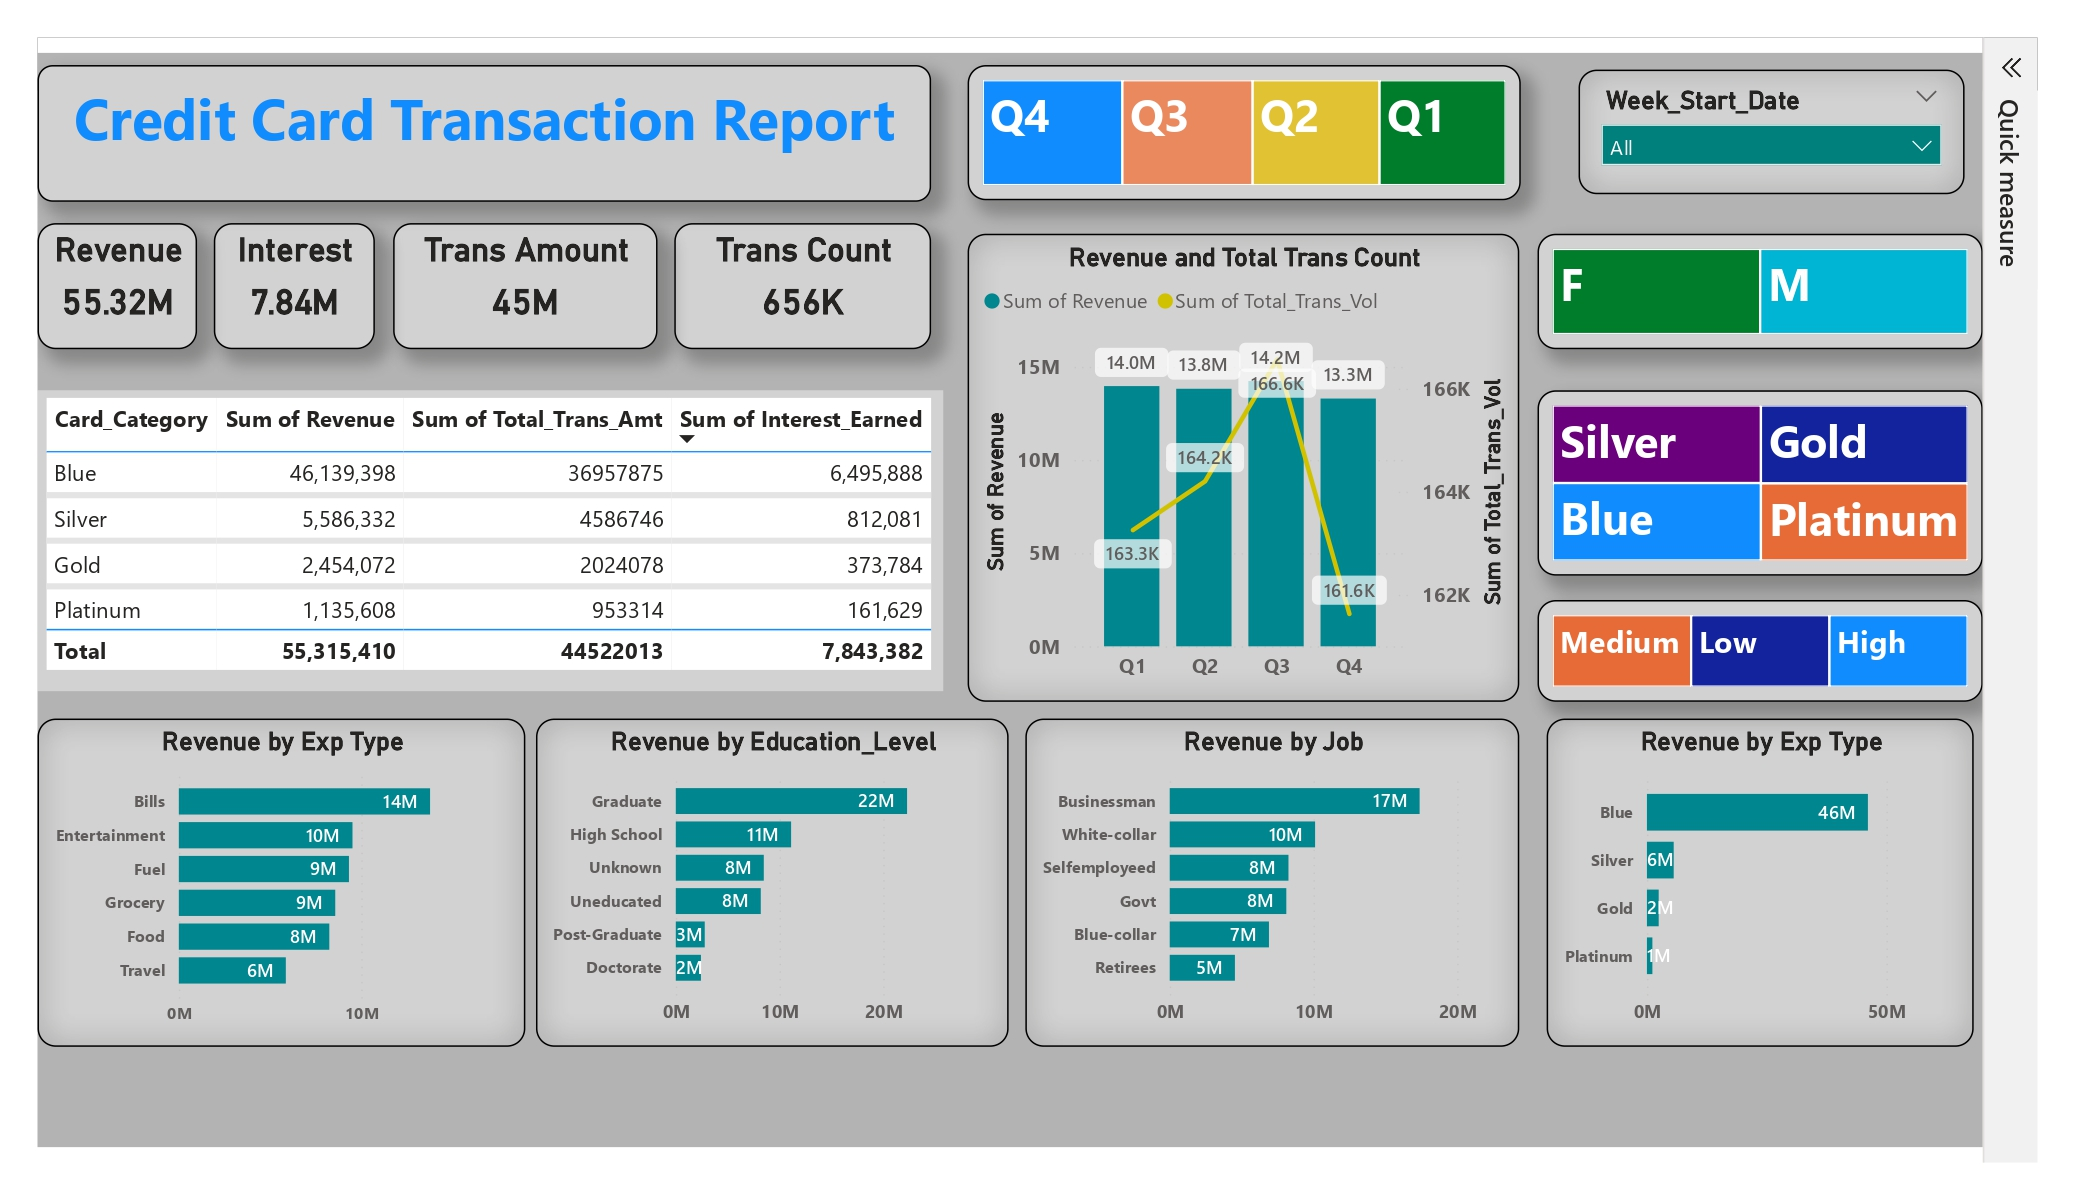

The dashboard page shown, as its layout file describes it:
{"tool":"powerbi","page":{"name":"Credit Card Transaction Report","canvas":[1280,720],"ordinal":0},"visuals":[{"type":"textbox","box":[0,8.4,587.5,89.3],"z":0},{"type":"card","title":"Revenue","fields":{"Values":["Sum(credit_card.Revenue)"]},"box":[0,112.2,107.4,83.2],"z":1000},{"type":"card","title":"Trans Count","fields":{"Values":["Sum(credit_card.Total_Trans_Vol)"]},"box":[418.6,112.2,168.9,83.2],"z":2000},{"type":"card","title":"Trans Amount ","fields":{"Values":["Sum(credit_card.Total_Trans_Amt)"]},"box":[234,112.2,173.7,83.2],"z":3000},{"type":"card","title":"Interest","fields":{"Values":["Sum(credit_card.Interest_Earned)"]},"box":[115.8,112.2,106.2,83.2],"z":4000},{"type":"treemap","fields":{"Group":["credit_card.Card_Category"],"Values":["Avg(credit_card.Client_Num)"]},"box":[986.9,222,293.2,121.9],"z":5000},{"type":"treemap","fields":{"Group":["credit_card.Qtr"],"Values":["Sum(credit_card.Client_Num)"]},"box":[612,8.2,363.6,89.2],"z":6000},{"type":"slicer","fields":{"Values":["credit_card.Week_Start_Date"]},"box":[1013.7,11,254.3,81.9],"z":7000},{"type":"treemap","fields":{"Group":["customer.Gender"],"Values":["Avg(credit_card.Client_Num)"]},"box":[986.9,119.4,293.2,76],"z":8000},{"type":"lineStackedColumnComboChart","title":"Revenue and Total Trans Count","fields":{"Category":["credit_card.Qtr"],"Y":["Sum(credit_card.Revenue)"],"Y2":["Sum(credit_card.Total_Trans_Vol)"]},"box":[611.7,119.4,363.1,307.6],"z":9000},{"type":"treemap","fields":{"Group":["customer.IncomeGroup"],"Values":["Avg(credit_card.Client_Num)"]},"box":[986.9,359.5,293.2,67.6],"z":10000},{"type":"tableEx","fields":{"Values":["credit_card.Card_Category","Sum(credit_card.Revenue)","Sum(credit_card.Total_Trans_Amt)","Sum(credit_card.Interest_Earned)"]},"box":[0,222,596,197.9],"z":11000},{"type":"barChart","title":" Revenue by Exp Type","fields":{"Category":["credit_card.Exp Type"],"Y":["Sum(credit_card.Revenue)"]},"box":[0,437.9,320.9,216],"z":12000},{"type":"barChart","title":"Revenue by Education_Level","fields":{"Category":["customer.Education_Level"],"Y":["Sum(credit_card.Revenue)"]},"box":[328.2,437.9,311.3,216],"z":13000},{"type":"barChart","title":" Revenue by Exp Type","fields":{"Y":["Sum(credit_card.Revenue)"],"Category":["credit_card.Card_Category"]},"box":[992.9,437.9,281.1,216],"z":14000},{"type":"barChart","title":" Revenue by Job","fields":{"Y":["Sum(credit_card.Revenue)"],"Category":["customer.Customer_Job"]},"box":[650.3,437.9,324.5,216],"z":15000}]}

Visuals, with their boxes on the page's 1280x720 design canvas (x1, y1, x2, y2). These are canvas units, not pixel positions in the 2075x1200 screenshot, which may show the page scaled, cropped or inside an application window:
textbox: 0,8,588,98
"Revenue" card: 0,112,107,195
"Trans Count" card: 419,112,588,195
"Trans Amount " card: 234,112,408,195
"Interest" card: 116,112,222,195
treemap - credit_card.Card_Category x Avg(credit_card.Client_Num): 987,222,1280,344
treemap - credit_card.Qtr x Sum(credit_card.Client_Num): 612,8,976,97
slicer - credit_card.Week_Start_Date: 1014,11,1268,93
treemap - customer.Gender x Avg(credit_card.Client_Num): 987,119,1280,195
"Revenue and Total Trans Count" lineStackedColumnComboChart: 612,119,975,427
treemap - customer.IncomeGroup x Avg(credit_card.Client_Num): 987,360,1280,427
tableEx - credit_card.Card_Category x Sum(credit_card.Revenue): 0,222,596,420
" Revenue by Exp Type" barChart: 0,438,321,654
"Revenue by Education_Level" barChart: 328,438,640,654
" Revenue by Exp Type" barChart: 993,438,1274,654
" Revenue by Job" barChart: 650,438,975,654
